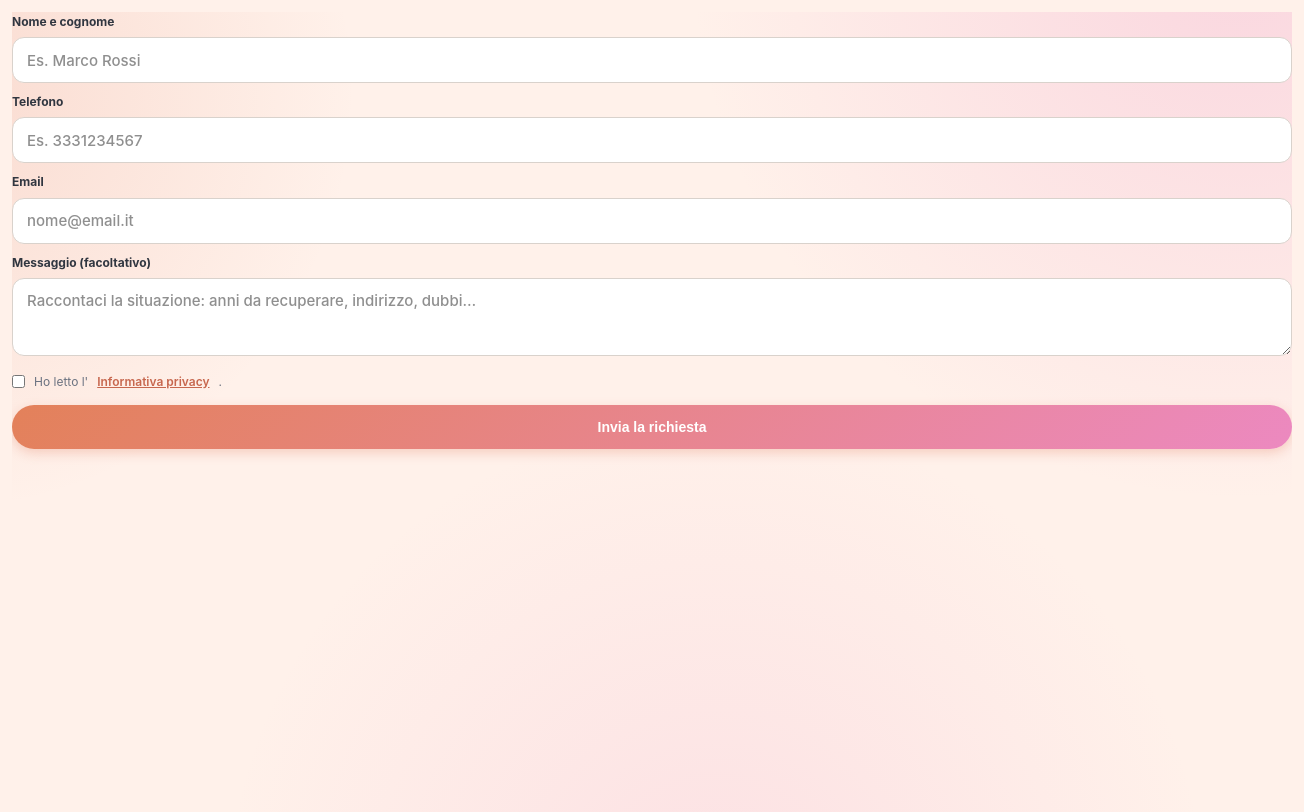
Test: phone field strips non-numeric characters and caps the length
The image size is (1304, 812).
Type "+39 (333) abc 12-34" into the field labelled "Telefono". click: (652, 140)
box: [12,117,1292,163]
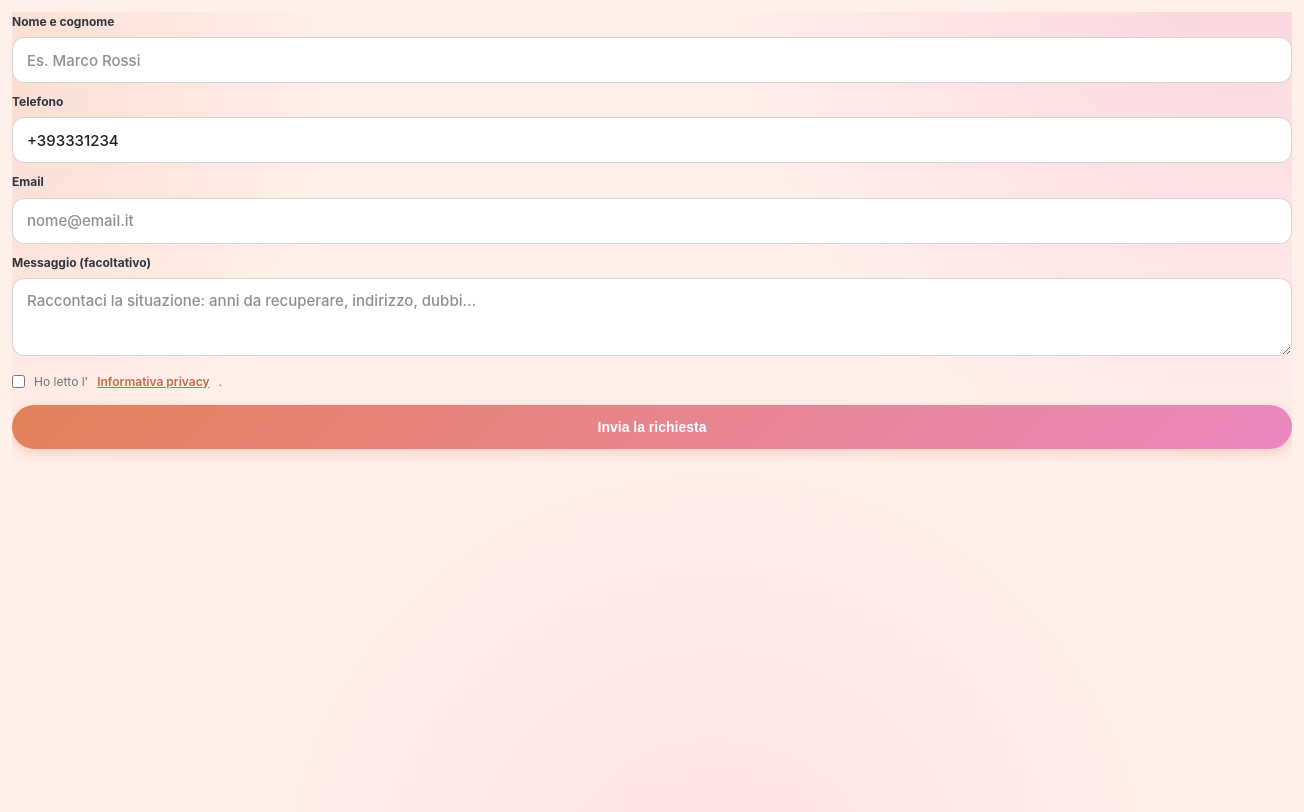
Expected: the field labelled "Telefono" holds "+393331234"
Replace the text in the field labelled "Telefono" with "1234567890123456789". click: (652, 140)
box: [12,117,1292,163]
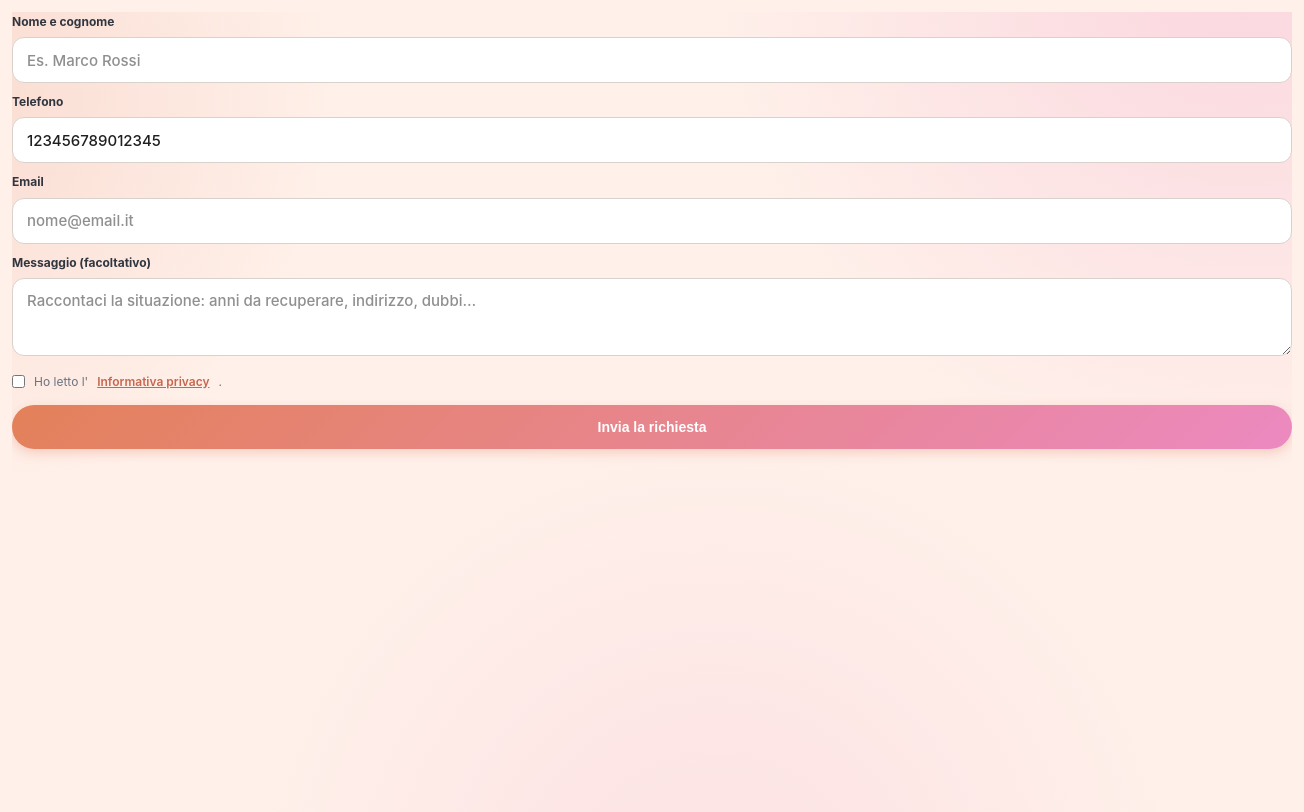
Expected: the field labelled "Telefono" holds "123456789012345", [12,117,1292,163]
